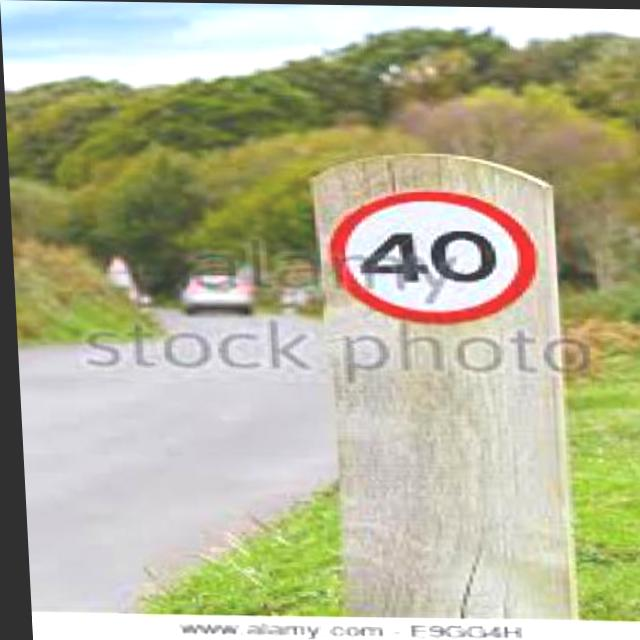limit40: (324, 190, 540, 324)
